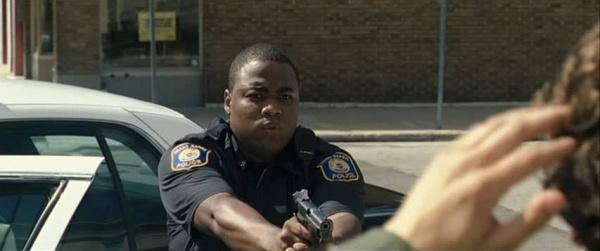Gun: (293, 191, 332, 244)
